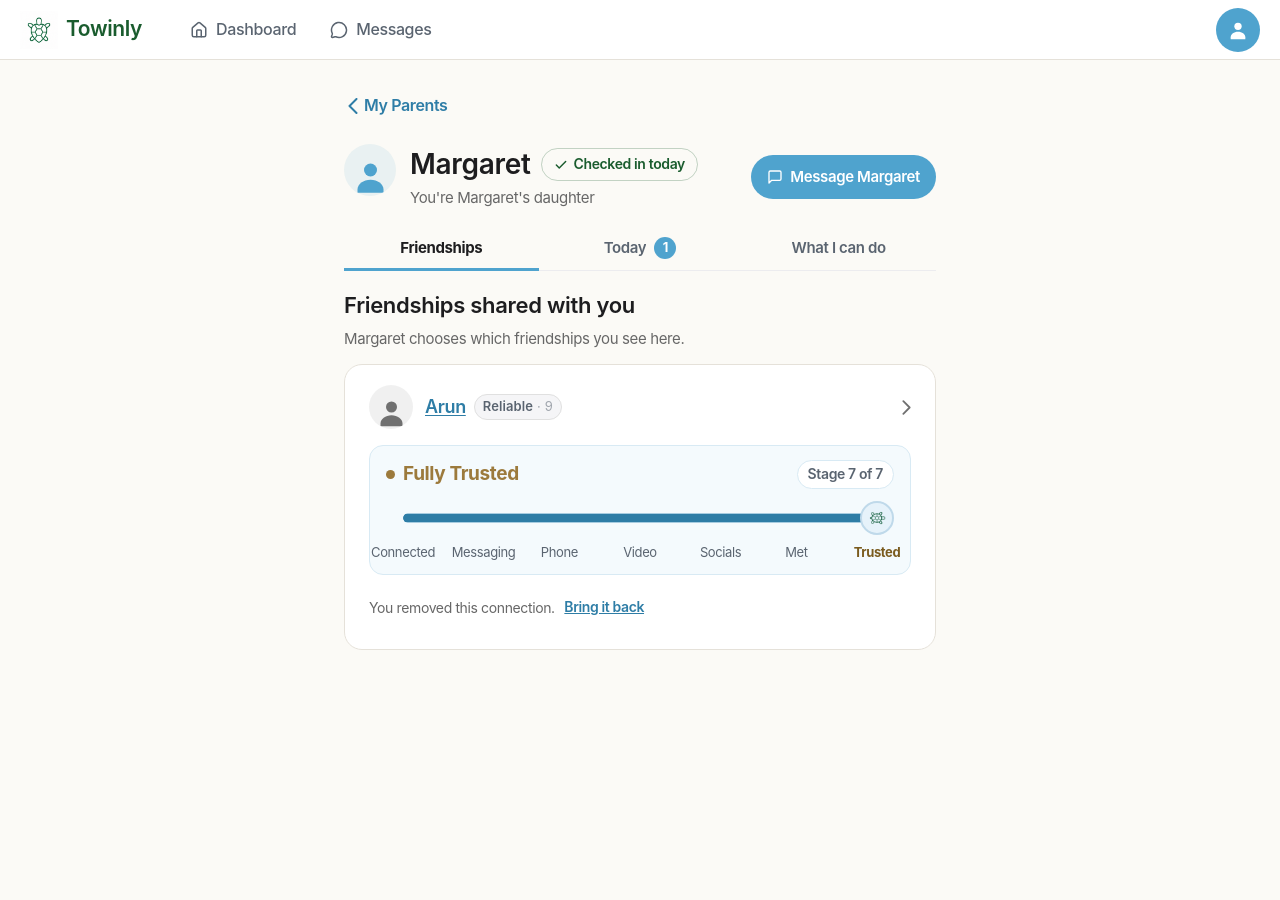
Test: FamilyParent — guardian mode actions › offers no way to act when the parent granted nothing
The width and height of the screenshot is (1280, 900).
Expected: the text "Arun" is shown, 425,394 -> 466,420
Step 1. Click the tab "Today 1" → [640, 249], box 543,227 -> 737,271
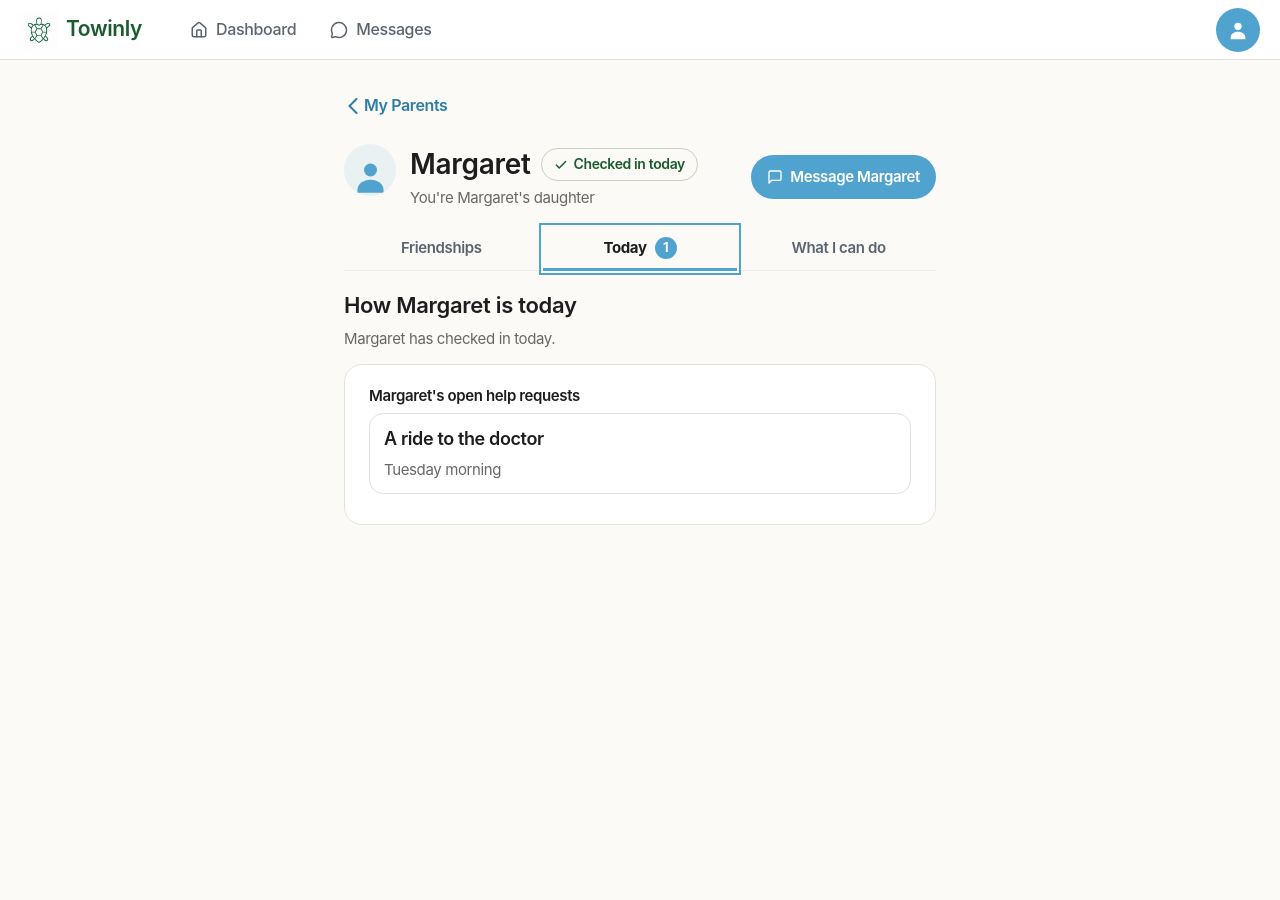
Result: the text "A ride to the doctor" is shown at 384,428 -> 544,449
